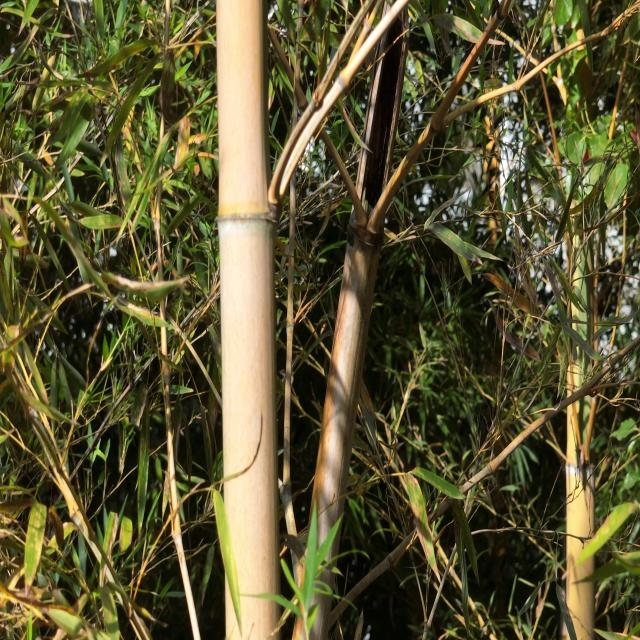Bamboo-shoots: (217, 0, 280, 640)
